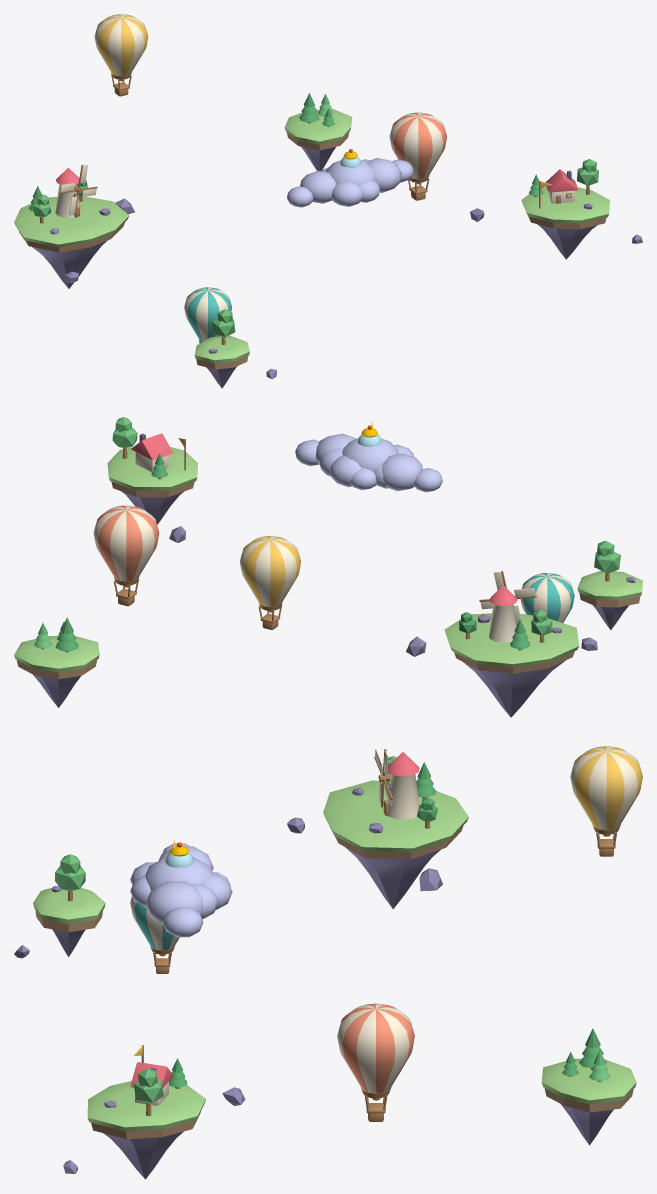
File: brawl.glb
The picture shows the model from 3 angles, top to bottom: view 1: azimuth 30°, elevation 25°; view 2: azimuth 150°, elevation 25°; view 3: azimuth 270°, elevation 25°; orthographic projection. The views are drawn at different scales.
Parts seen in each view (by area): view 1: mill_body, home_body, part_cloud_a, far_body, balloon_warm_envelope, balloon_sun_envelope, lone_body, balloon_cool_envelope, mill_sails; view 2: mill_body, home_body, part_cloud_a, far_body, balloon_warm_envelope, balloon_sun_envelope, lone_body, balloon_cool_envelope, part_cloud_b, mill_sails, balloon_warm_rig; view 3: mill_body, home_body, far_body, balloon_warm_envelope, part_cloud_a, balloon_sun_envelope, lone_body, balloon_cool_envelope, part_cloud_b.
Boxes of the visible parts, bbox=[...] form: mill_body: bbox=[14, 167, 129, 288]; home_body: bbox=[521, 159, 609, 259]; part_cloud_a: bbox=[287, 158, 413, 207]; far_body: bbox=[284, 93, 352, 171]; balloon_warm_envelope: bbox=[389, 112, 447, 178]; balloon_sun_envelope: bbox=[94, 14, 148, 76]; lone_body: bbox=[194, 309, 249, 388]; balloon_cool_envelope: bbox=[184, 287, 231, 341]; mill_sails: bbox=[59, 164, 97, 215]; mill_body: bbox=[444, 585, 579, 717]; home_body: bbox=[107, 417, 197, 524]; part_cloud_a: bbox=[295, 433, 442, 492]; far_body: bbox=[14, 617, 99, 707]; balloon_warm_envelope: bbox=[93, 505, 159, 581]; balloon_sun_envelope: bbox=[239, 536, 301, 606]; lone_body: bbox=[577, 540, 642, 630]; balloon_cool_envelope: bbox=[520, 573, 574, 622]; part_cloud_b: bbox=[319, 448, 388, 490]; mill_sails: bbox=[479, 571, 536, 625]; balloon_warm_rig: bbox=[113, 576, 139, 606]; mill_body: bbox=[323, 752, 468, 909]; home_body: bbox=[87, 1045, 205, 1179]; far_body: bbox=[541, 1028, 636, 1145]; balloon_warm_envelope: bbox=[337, 1003, 414, 1093]; part_cloud_a: bbox=[130, 843, 232, 937]; balloon_sun_envelope: bbox=[570, 746, 642, 829]; lone_body: bbox=[33, 854, 105, 957]; balloon_cool_envelope: bbox=[130, 896, 179, 950]; part_cloud_b: bbox=[130, 872, 230, 919].
Size of the model in its own units: 46.09 by 17.59 by 36.83.
